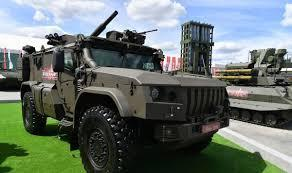armored_car: (18, 8, 239, 168)
